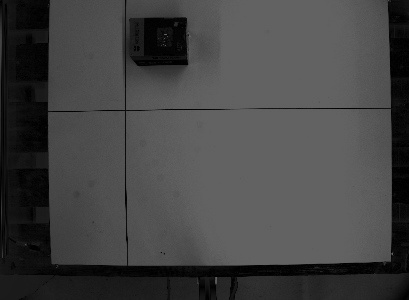b4: (125, 14, 192, 67)
